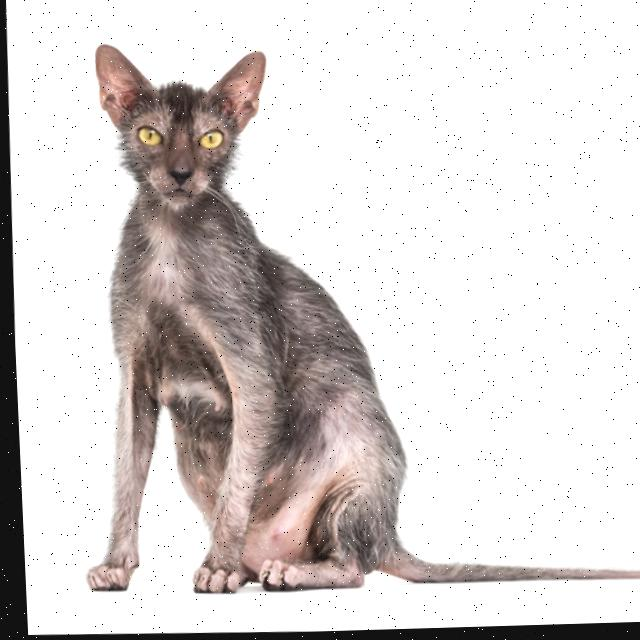Lykoi: (55, 25, 640, 611)
